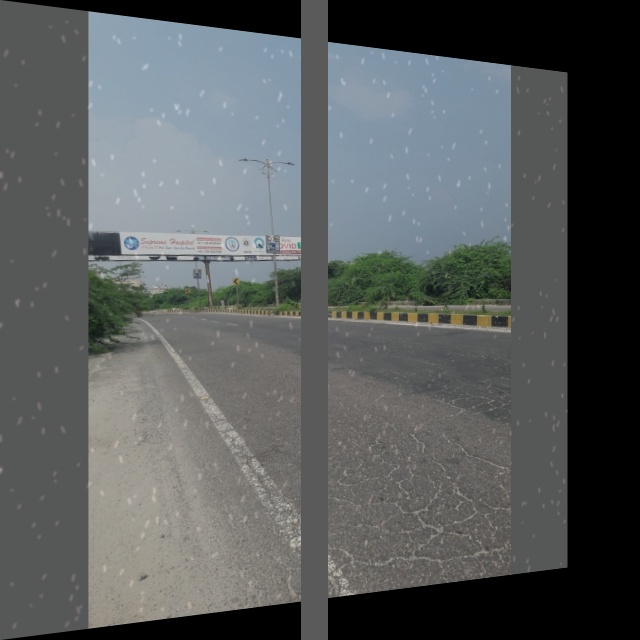Cattle: (313, 256, 331, 273)
